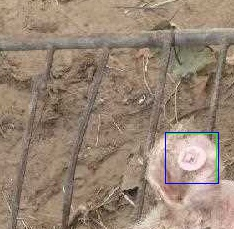text: (165, 133, 216, 183)
